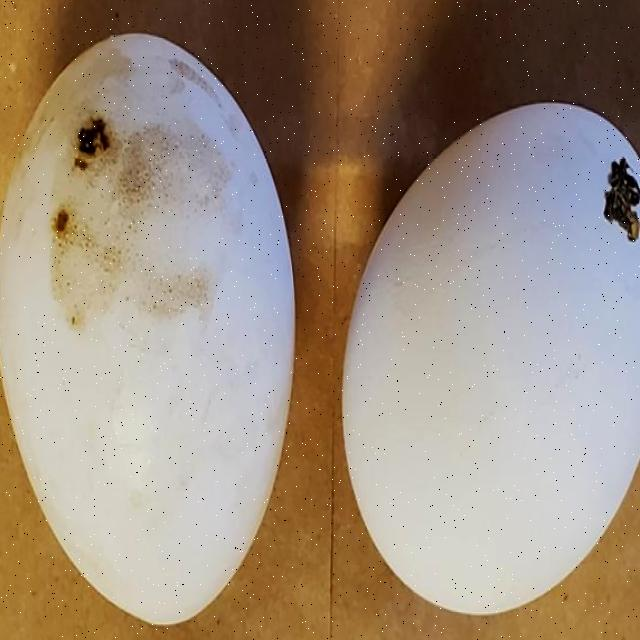Blood Stained Egg: (325, 19, 640, 618), (1, 12, 289, 640)
